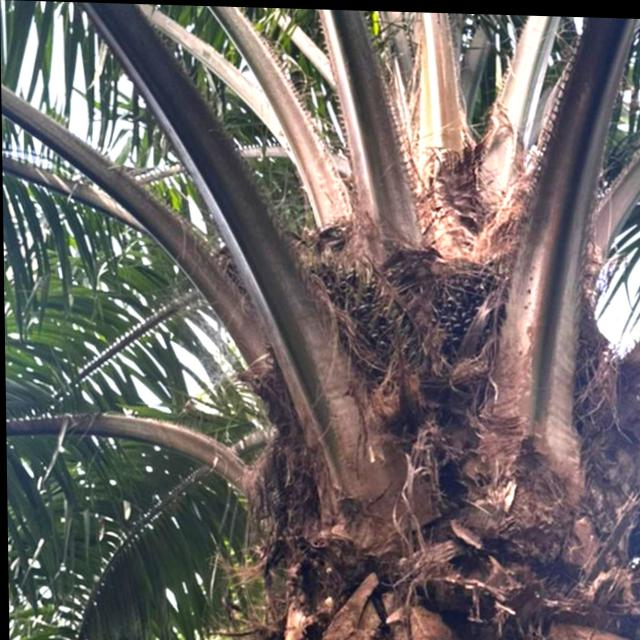unripe: (282, 242, 432, 420), (423, 242, 525, 377)
